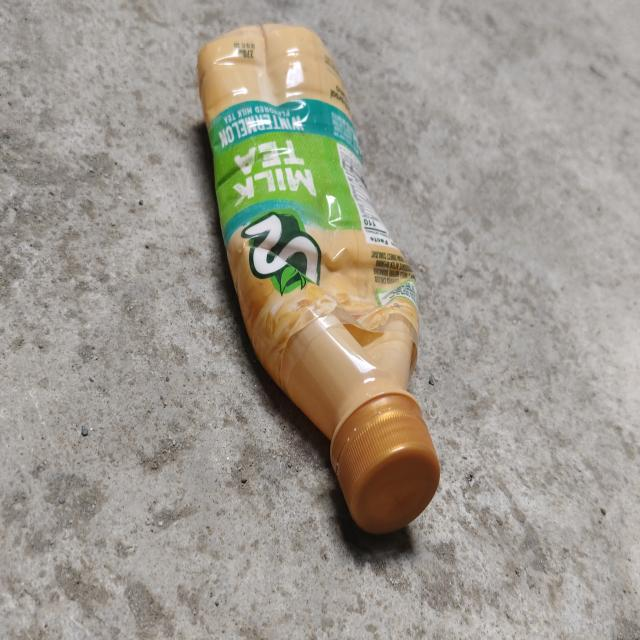Bottle: (195, 24, 442, 542)
